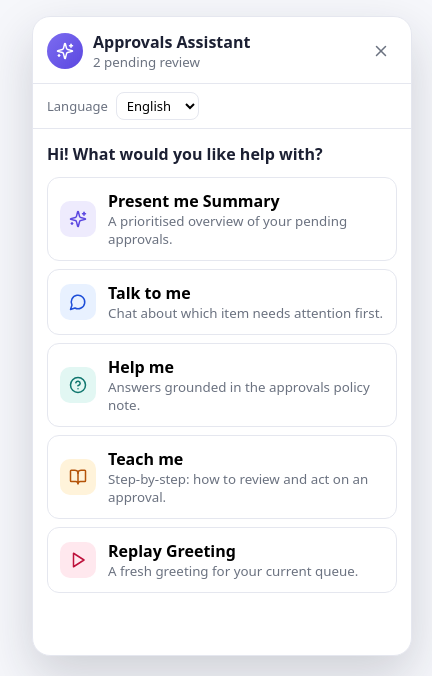
Scenario: error and fallback states › shows an alert with Retry when the request fails, and recovers on retry
This screenshot has width=432, height=676.
Click the button "Present me Summary" at (222, 219), box left=47, top=177, right=397, bottom=261
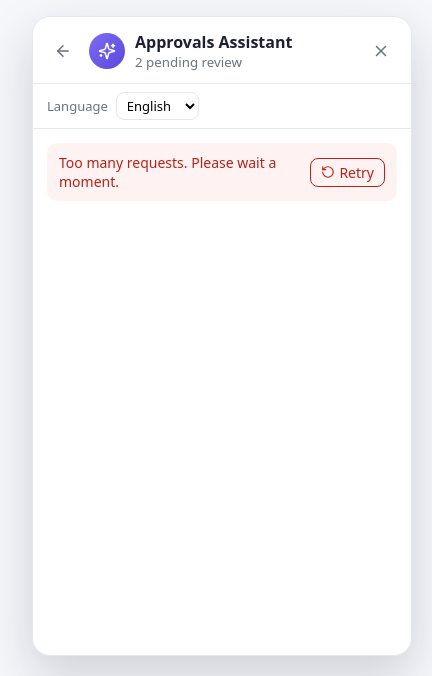
Result: the message shows "Too many requests. Please wait a moment." at left=59, top=153, right=276, bottom=191
Click the button "Retry" at (348, 172), box left=310, top=158, right=385, bottom=186
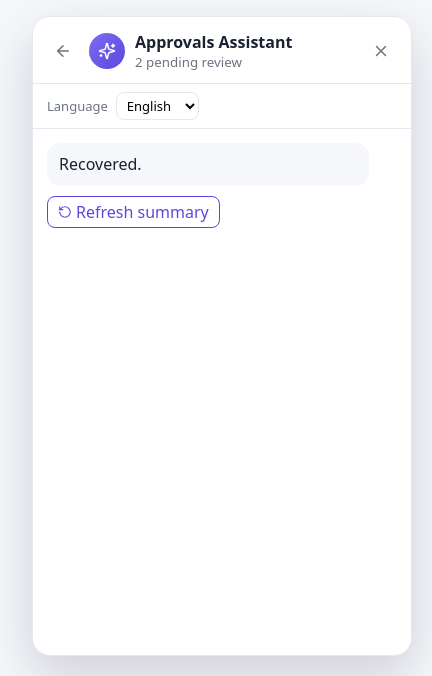
Result: the text "Recovered." is shown at left=47, top=143, right=369, bottom=186
Result: the message "Too many requests. Please wait a moment. Retry" is gone
